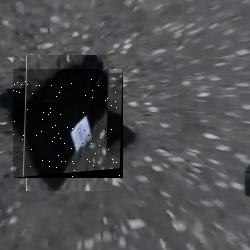restaffald: (13, 69, 123, 178)
